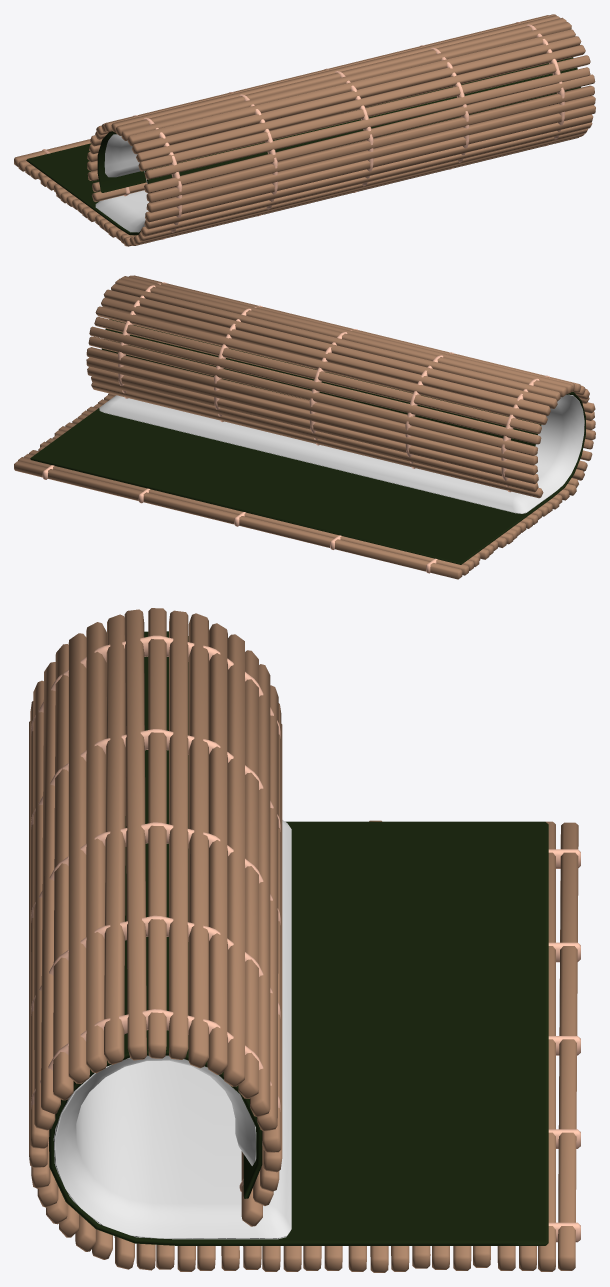
File: bal_roll_partial.fbx
3 renders of one model, top to bottom at view 1: azimuth 30°, elevation 25°; view 2: azimuth 150°, elevation 25°; view 3: azimuth 270°, elevation 25°, orthographic. The views are drawn at different scales.
Parts seen in each view (by area): view 1: Gim_rice.002; view 2: Gim_rice.002; view 3: Gim_rice.002.
Boxes of the visible parts, <box> form: Gim_rice.002: <box>14,14,595,246</box>; Gim_rice.002: <box>14,275,595,579</box>; Gim_rice.002: <box>29,608,580,1272</box>.
Size of the model in its own units: 652 by 160 by 347.
